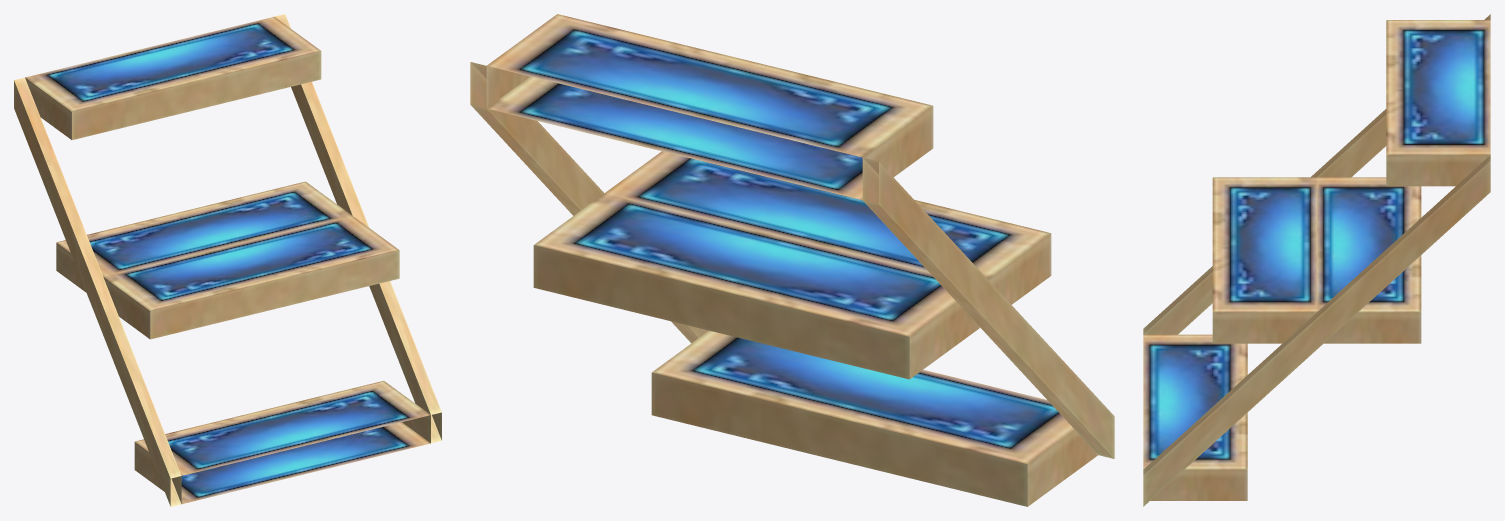
Rendered from stairs.glb.
The picture shows the model from 3 angles, left to right: view 1: azimuth 30°, elevation 25°; view 2: azimuth 150°, elevation 25°; view 3: azimuth 270°, elevation 25°; orthographic projection. The views are drawn at different scales.
Parts seen in each view (by area): view 1: stair; view 2: stair; view 3: stair.
Boxes of the visible parts, x1=… form: stair: x1=14, y1=14, x2=441, y2=506; stair: x1=470, y1=14, x2=1114, y2=506; stair: x1=1143, y1=14, x2=1490, y2=506.
Bounding box in the file's own units: 5 × 5.5 × 5.
1 material, 1 textured.
